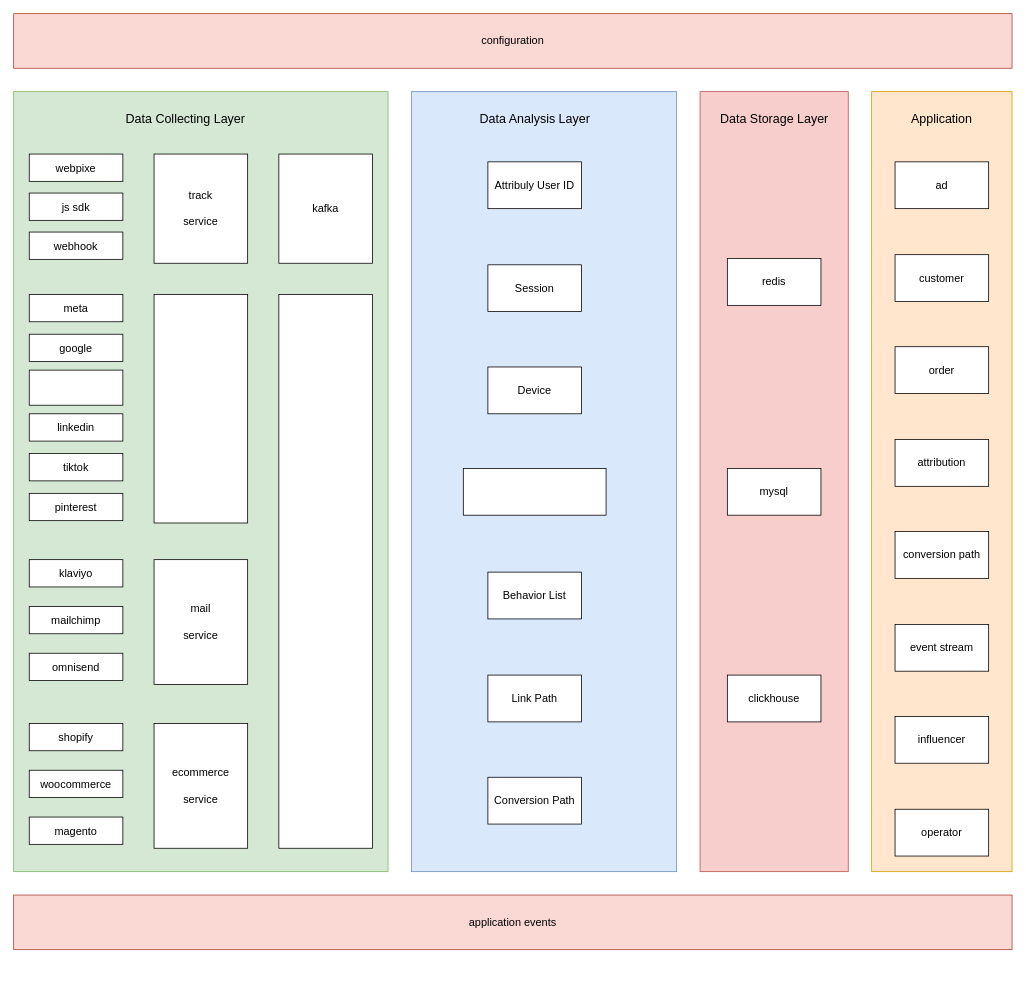
Image size: 1026x987. Some labels were removed from this diagram. Here are the shapes that lost their labels. From the top down, the centre of each, then its label:
At point (75, 387): "bing".
At point (200, 408): "ad service".
At point (534, 491): "Cross Device / Multi Touch".
At point (325, 571): "3rd api service".
